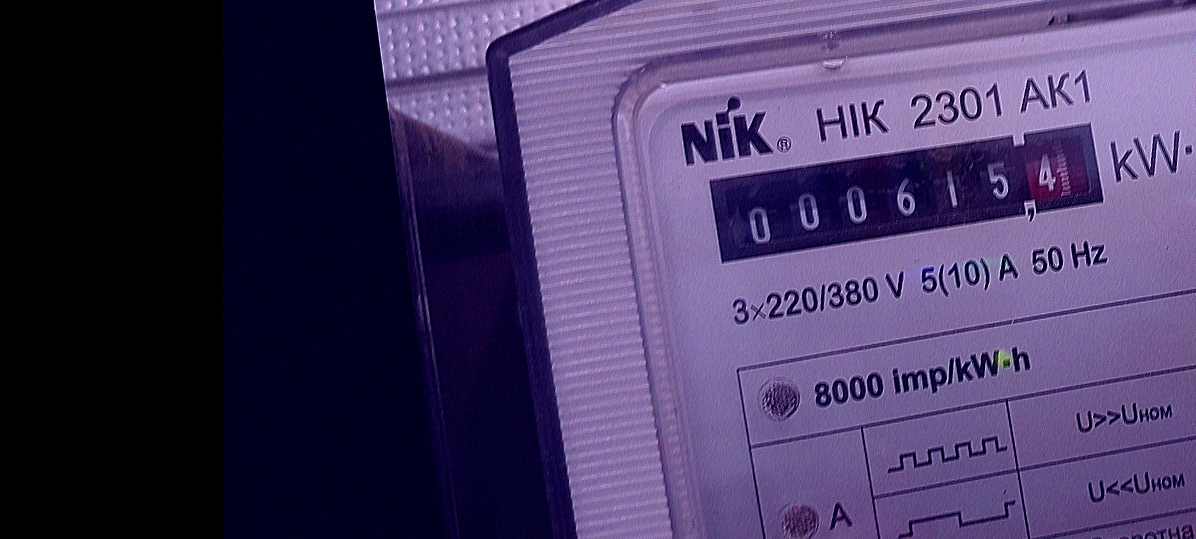0: (745, 201, 776, 245), (843, 181, 873, 226), (796, 188, 824, 231)
1: (944, 166, 963, 209)
4: (1035, 150, 1059, 193)
5: (986, 157, 1014, 201)
6: (892, 174, 921, 217)
screen: (695, 109, 1121, 275)
